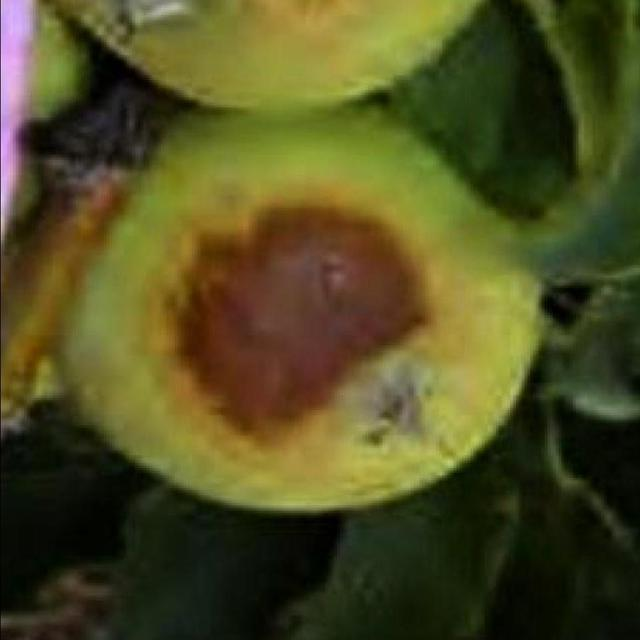Sunscald Fruit: (113, 128, 292, 308)
